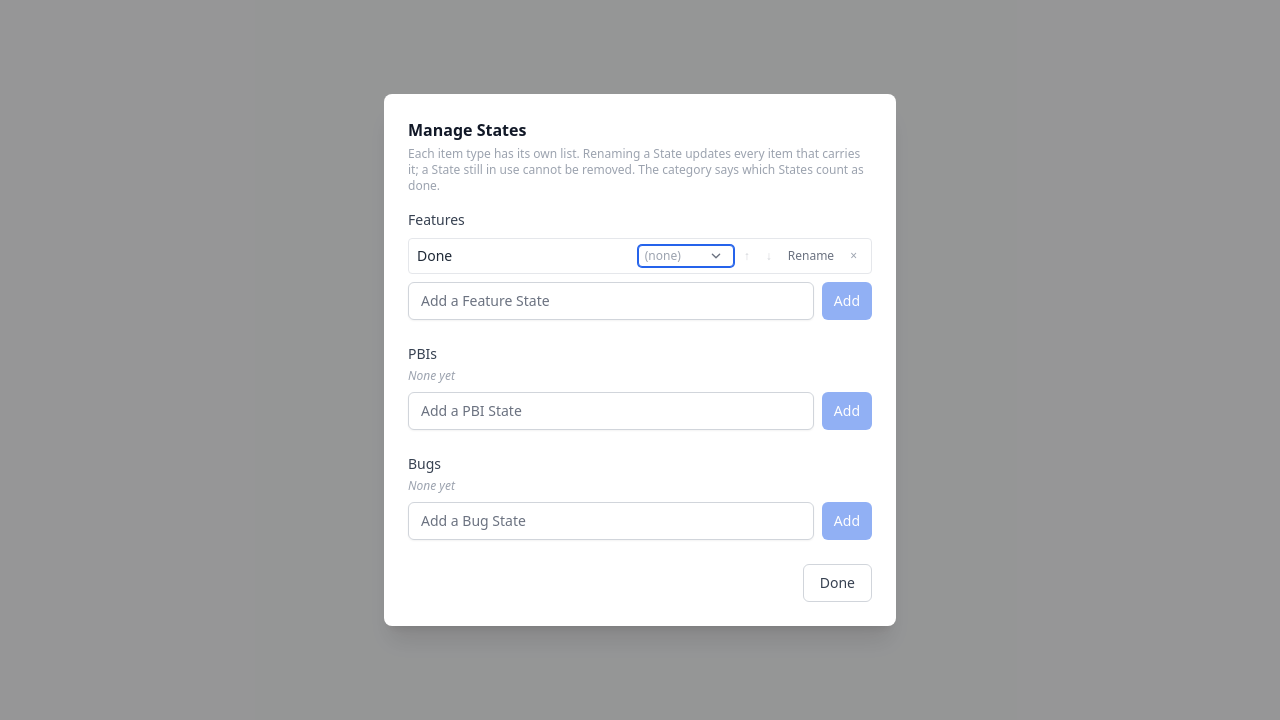
Scenario: ProjectStatesModal › reports the backend message when a duplicate is added
Type "done" into the field named "New Features State". click: point(611, 301)
box: [408,282,814,320]
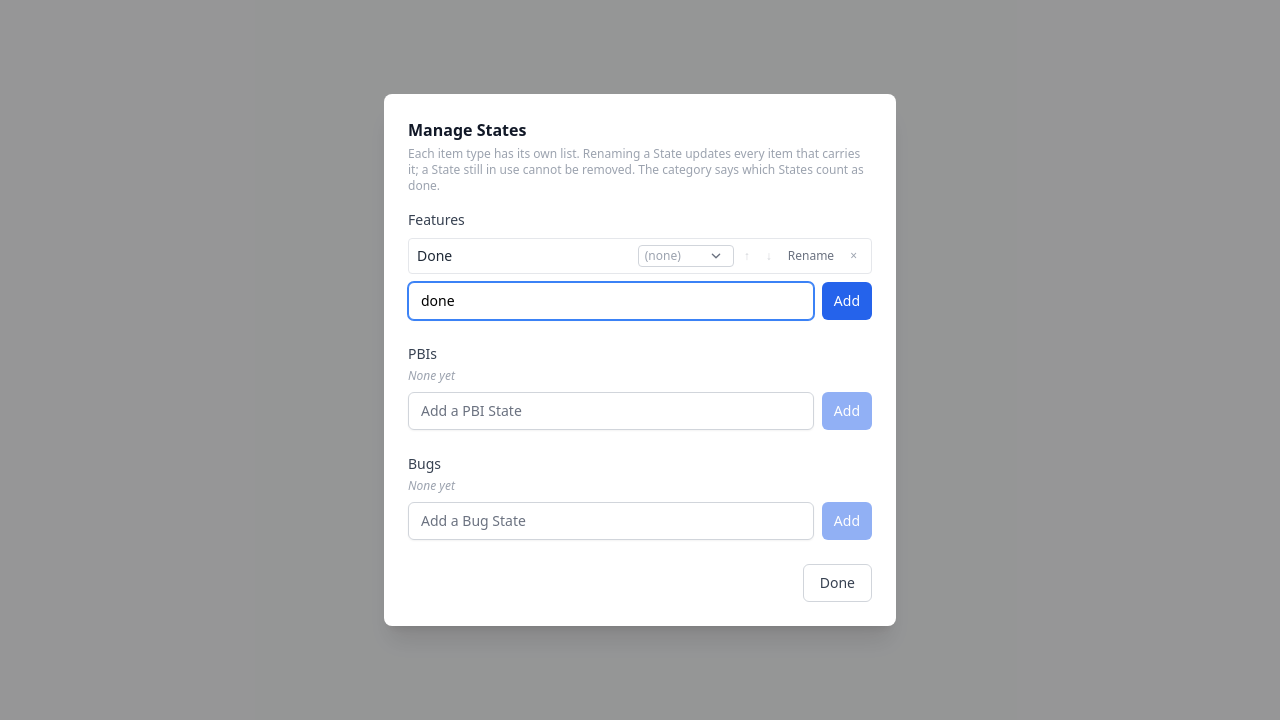
Click the 1st button "Add". click: point(847, 301)
box: [822,282,872,320]
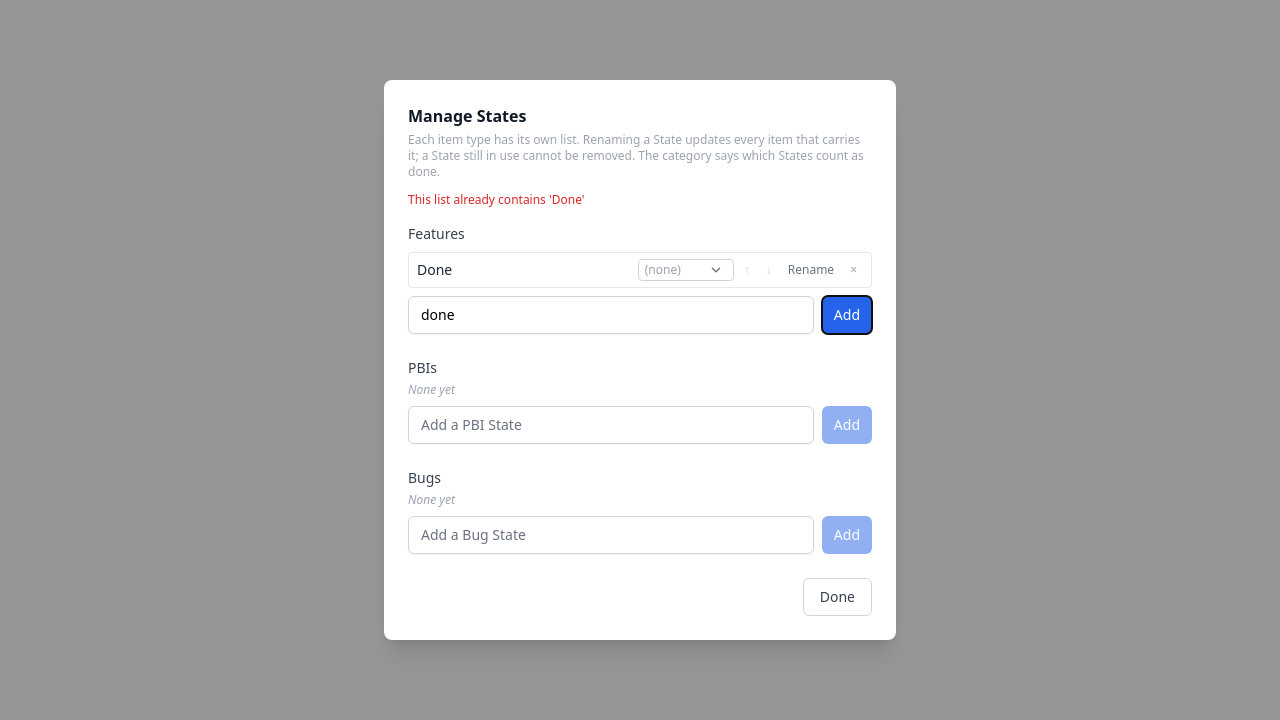
Result: the message reads "This list already contains 'Done'" at [408,191,584,208]
